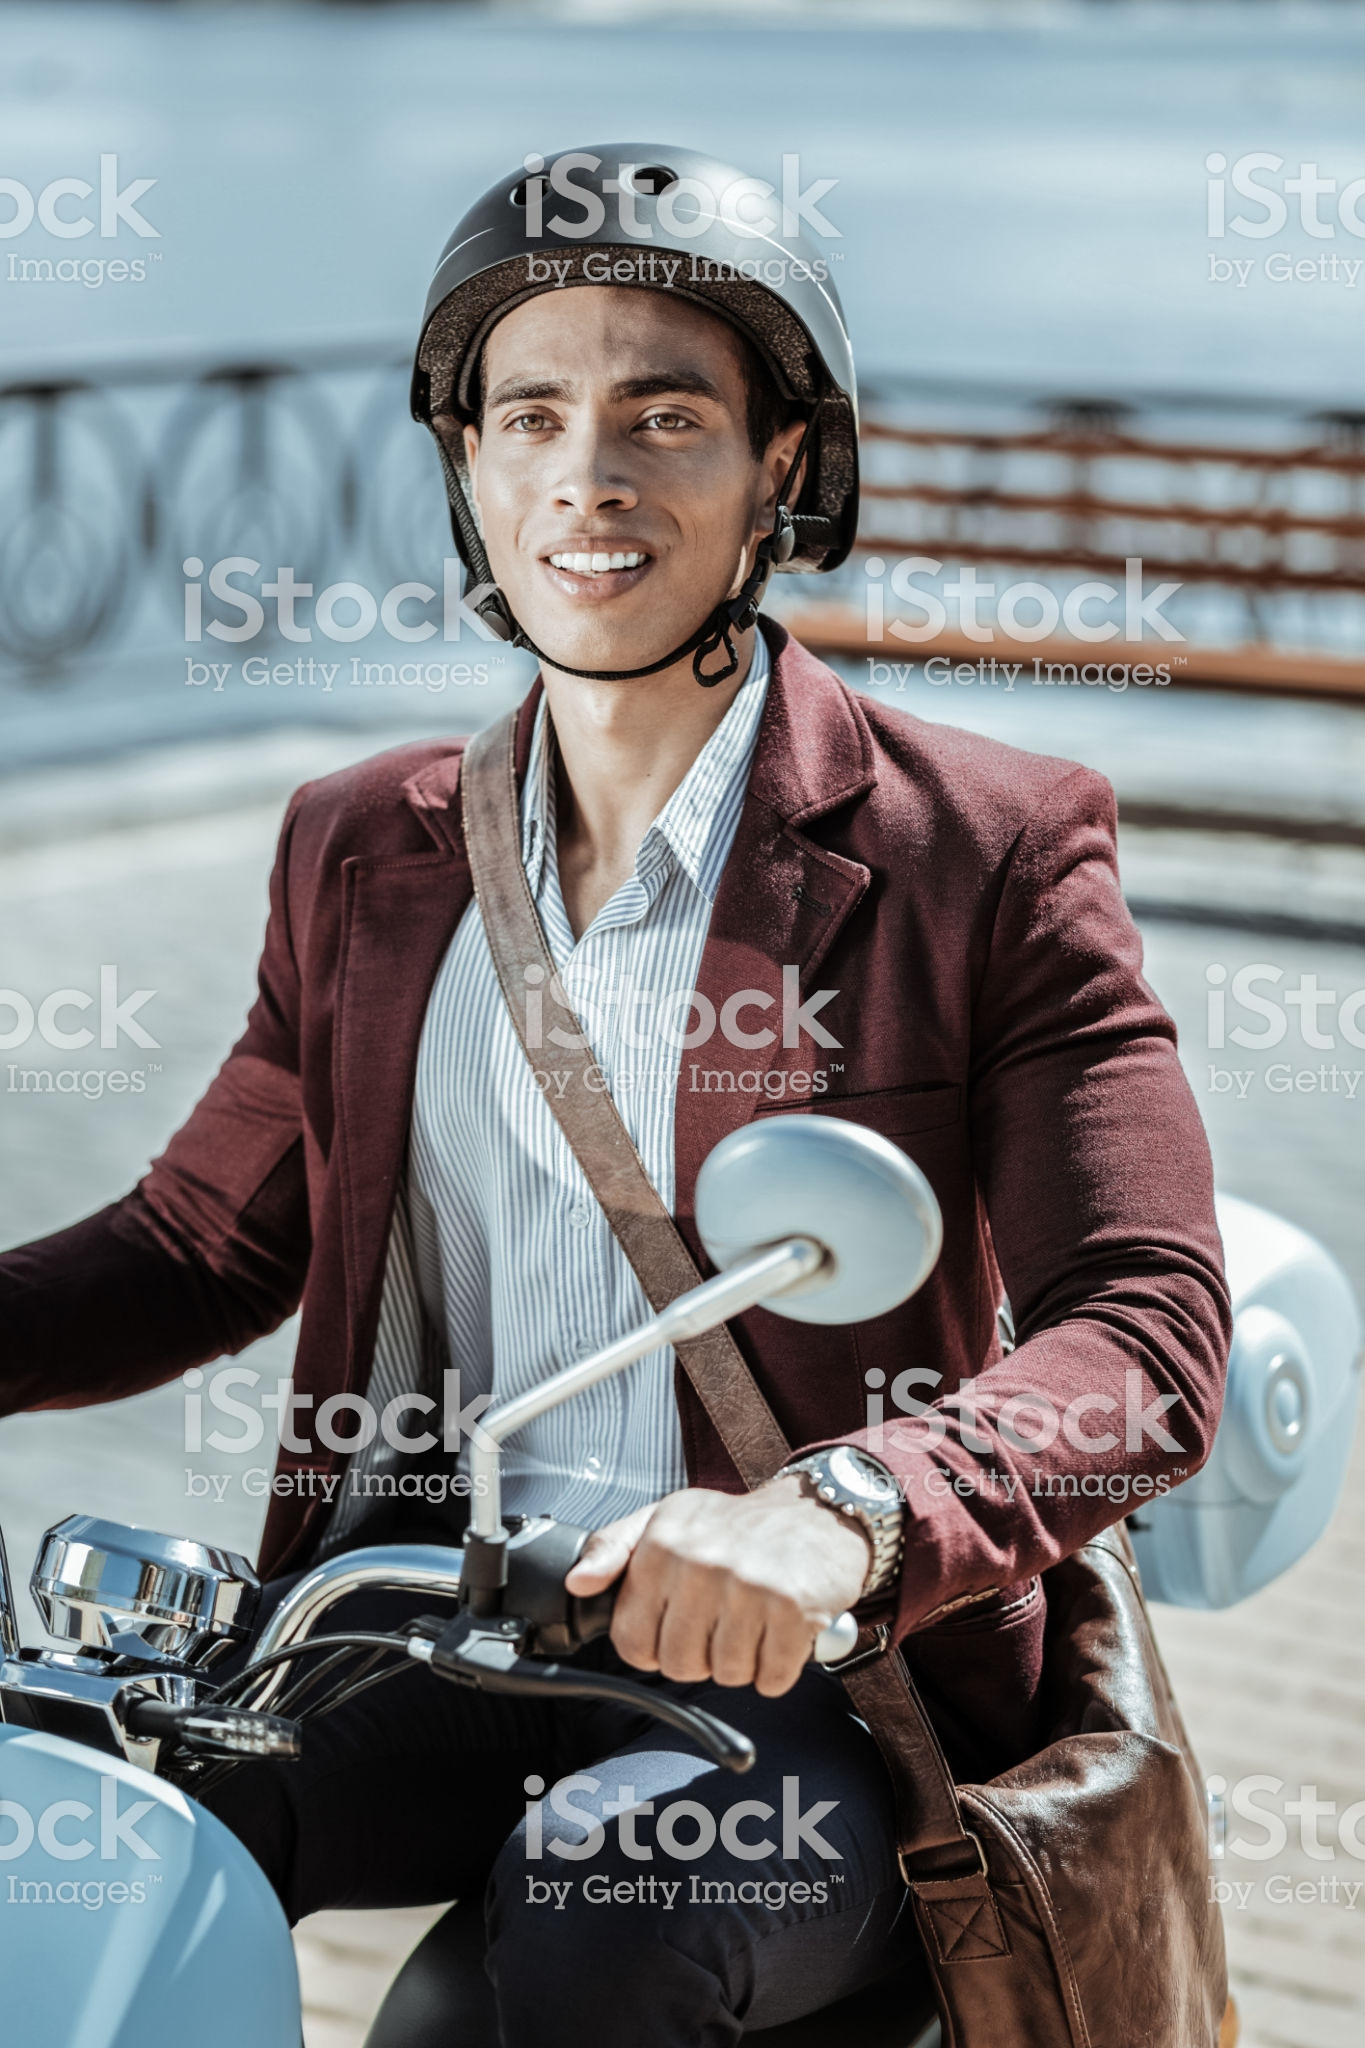helmet: (395, 169, 894, 469)
